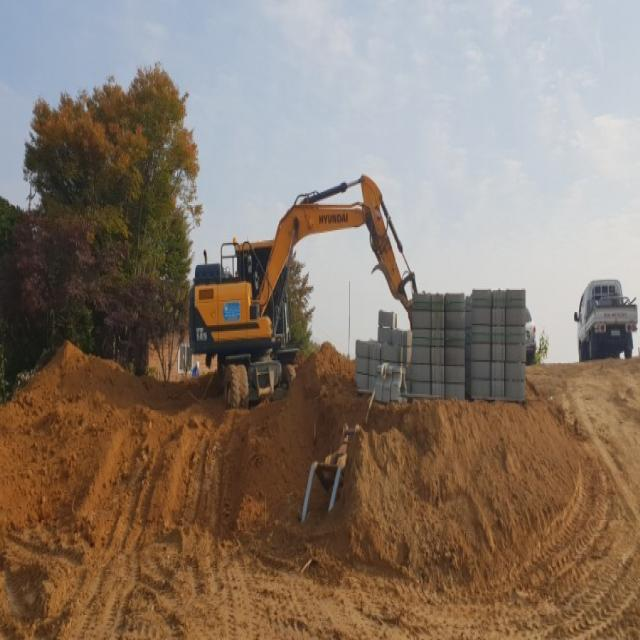excavator: (190, 176, 418, 408)
